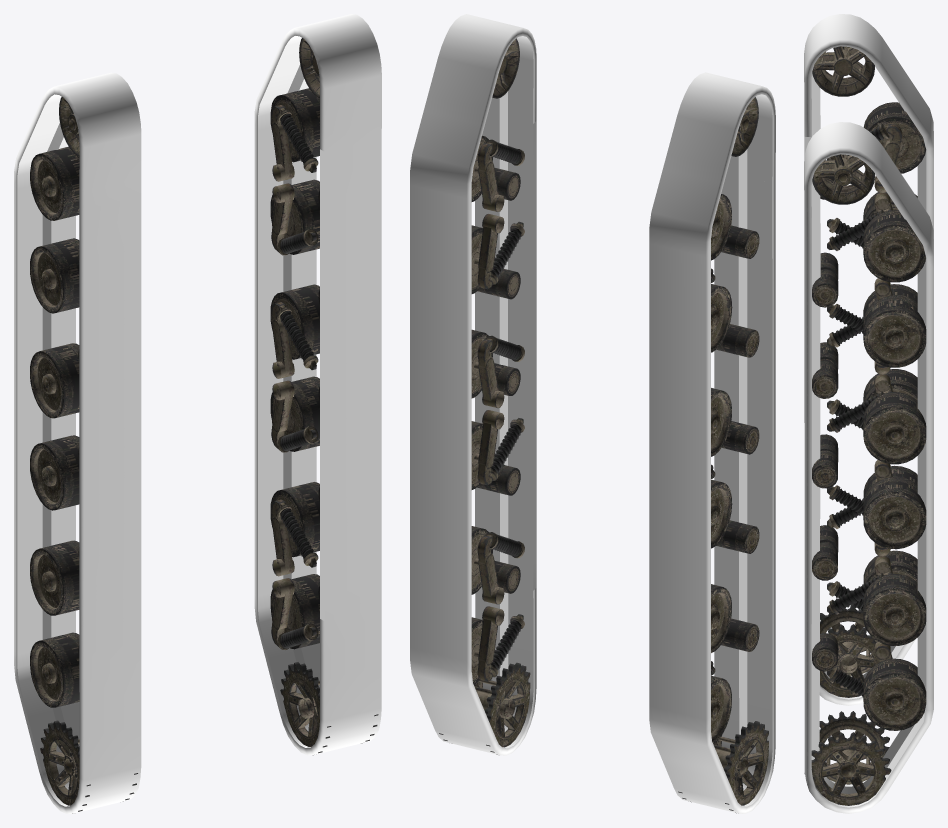
Rendered from Chassis.glb.
3 renders of one model, left to right at view 1: azimuth 30°, elevation 25°; view 2: azimuth 150°, elevation 25°; view 3: azimuth 270°, elevation 25°, orthographic. The views are drawn at different scales.
Parts seen in each view (by area): view 1: set_0_group_0, set_1_group_0, set_3_group_0, set_2_group_0; view 2: set_0_group_0, set_1_group_0, set_3_group_0, set_2_group_0; view 3: set_3_group_0, set_1_group_0, set_2_group_0, set_0_group_0.
Boxes of the visible parts, <box> form: set_0_group_0: <box>14,72,141,813</box>; set_1_group_0: <box>254,14,381,755</box>; set_3_group_0: <box>270,38,378,755</box>; set_2_group_0: <box>30,97,137,813</box>; set_0_group_0: <box>649,72,775,813</box>; set_1_group_0: <box>410,14,536,755</box>; set_3_group_0: <box>439,38,530,754</box>; set_2_group_0: <box>678,97,768,813</box>; set_3_group_0: <box>804,154,926,805</box>; set_1_group_0: <box>804,122,933,813</box>; set_2_group_0: <box>812,46,926,697</box>; set_0_group_0: <box>804,14,933,705</box>.
Size of the model in its own units: 3.04 by 7.04 by 1.24.
4 materials, 2 textured.
